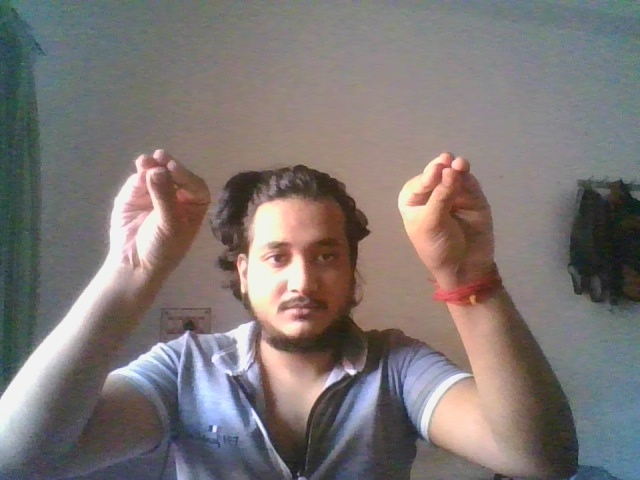Mouth: (107, 147, 213, 279), (396, 151, 495, 271)
